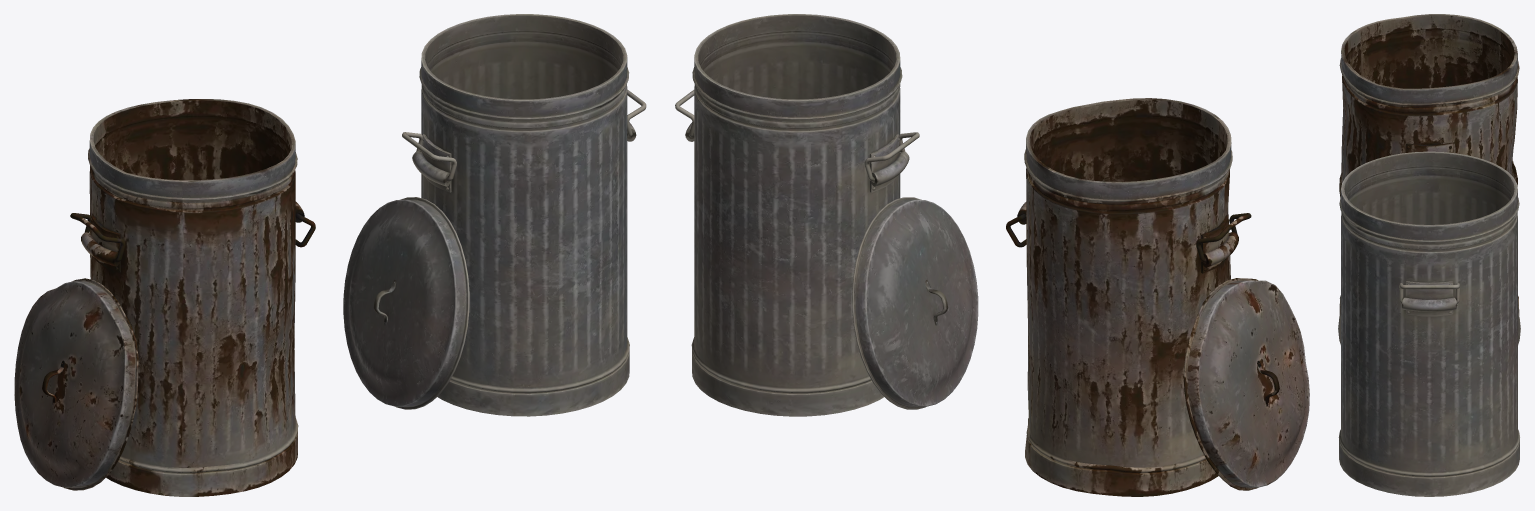
File: metal_trash_can_1k.glb
3 views of the same model, side by side, from view 1: azimuth 30°, elevation 25°; view 2: azimuth 150°, elevation 25°; view 3: azimuth 270°, elevation 25° (orthographic). The views are drawn at different scales.
Parts seen in each view (by area): view 1: metal_trash_can, metal_trash_can_rust, metal_trash_can_lid, metal_trash_can_rust_lid; view 2: metal_trash_can, metal_trash_can_rust, metal_trash_can_lid, metal_trash_can_rust_lid; view 3: metal_trash_can, metal_trash_can_rust, metal_trash_can_handle_right.
Boxes of the visible parts, x1=… form: metal_trash_can: x1=412, y1=14, x2=636, y2=416; metal_trash_can_rust: x1=81, y1=99, x2=304, y2=496; metal_trash_can_lid: x1=343, y1=197, x2=469, y2=409; metal_trash_can_rust_lid: x1=14, y1=278, x2=138, y2=490; metal_trash_can: x1=685, y1=14, x2=909, y2=416; metal_trash_can_rust: x1=1017, y1=98, x2=1238, y2=496; metal_trash_can_lid: x1=852, y1=197, x2=978, y2=409; metal_trash_can_rust_lid: x1=1183, y1=278, x2=1309, y2=490; metal_trash_can: x1=1338, y1=151, x2=1519, y2=496; metal_trash_can_rust: x1=1339, y1=14, x2=1519, y2=316; metal_trash_can_handle_right: x1=1399, y1=283, x2=1459, y2=303.
Bounding box in the file's own units: 1.78 × 0.9062 × 0.5563.
2 materials, 2 textured.
